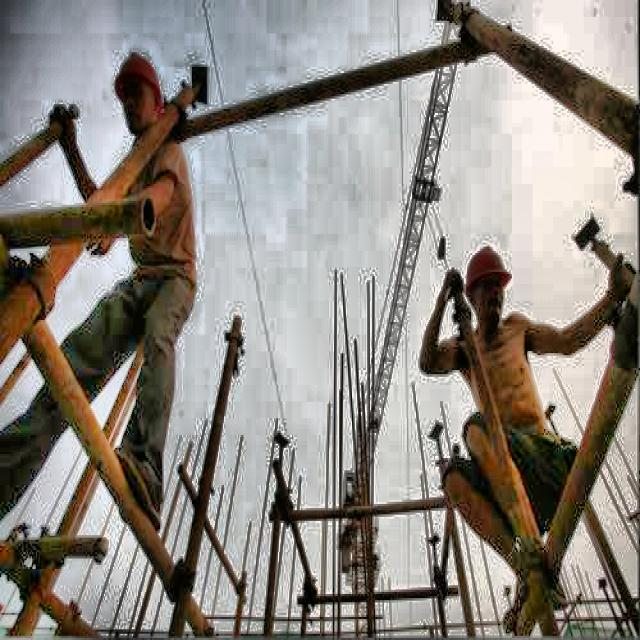helmet: (112, 42, 172, 146), (465, 240, 512, 328)
